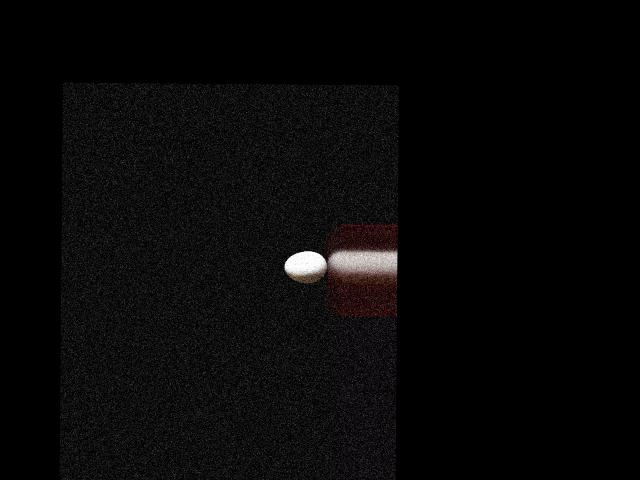egg: (284, 250, 327, 282)
